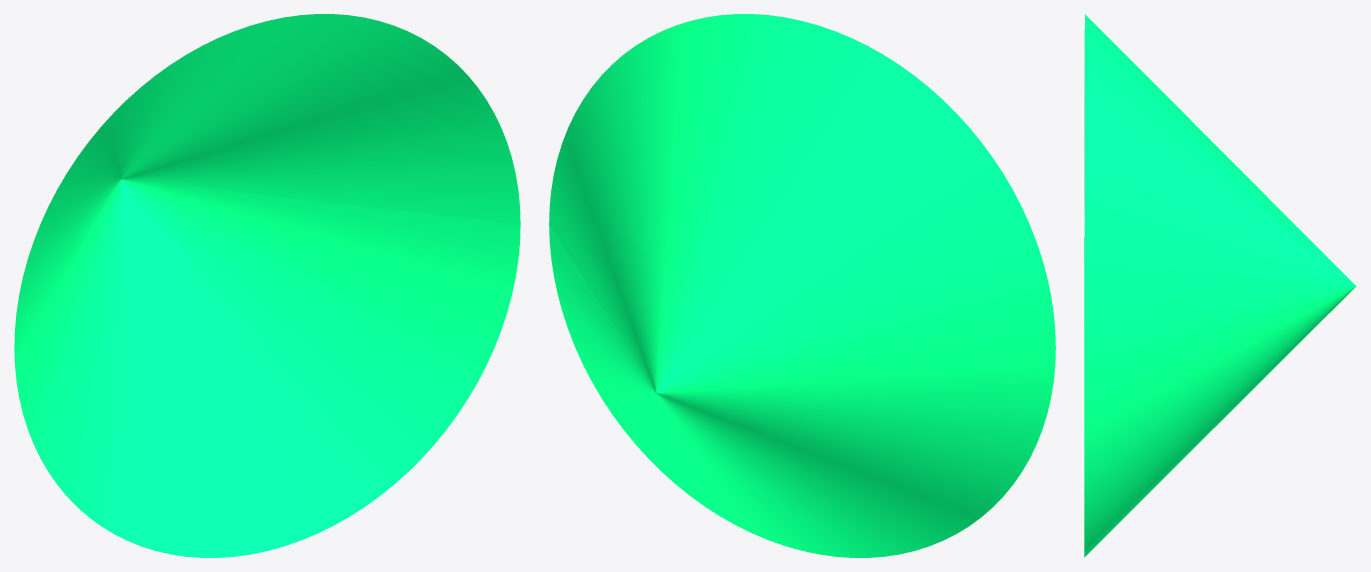
Rendered from einstein_mass_energy_ar_universal.glb.
3 renders of one model, left to right at view 1: azimuth 30°, elevation 25°; view 2: azimuth 150°, elevation 25°; view 3: azimuth 270°, elevation 25°, orthographic. The views are drawn at different scales.
Visible parts, largest first — view 1: einstein_mass_energy_ar; view 2: einstein_mass_energy_ar; view 3: einstein_mass_energy_ar.
Boxes of the visible parts, x1,y1,x2,y2 form: einstein_mass_energy_ar: (14, 14, 520, 557); einstein_mass_energy_ar: (549, 14, 1055, 557); einstein_mass_energy_ar: (1084, 14, 1356, 557).
Bounding box in the file's own units: 1 × 1 × 0.5008.
